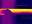Hotspot: (9, 9, 31, 13)
